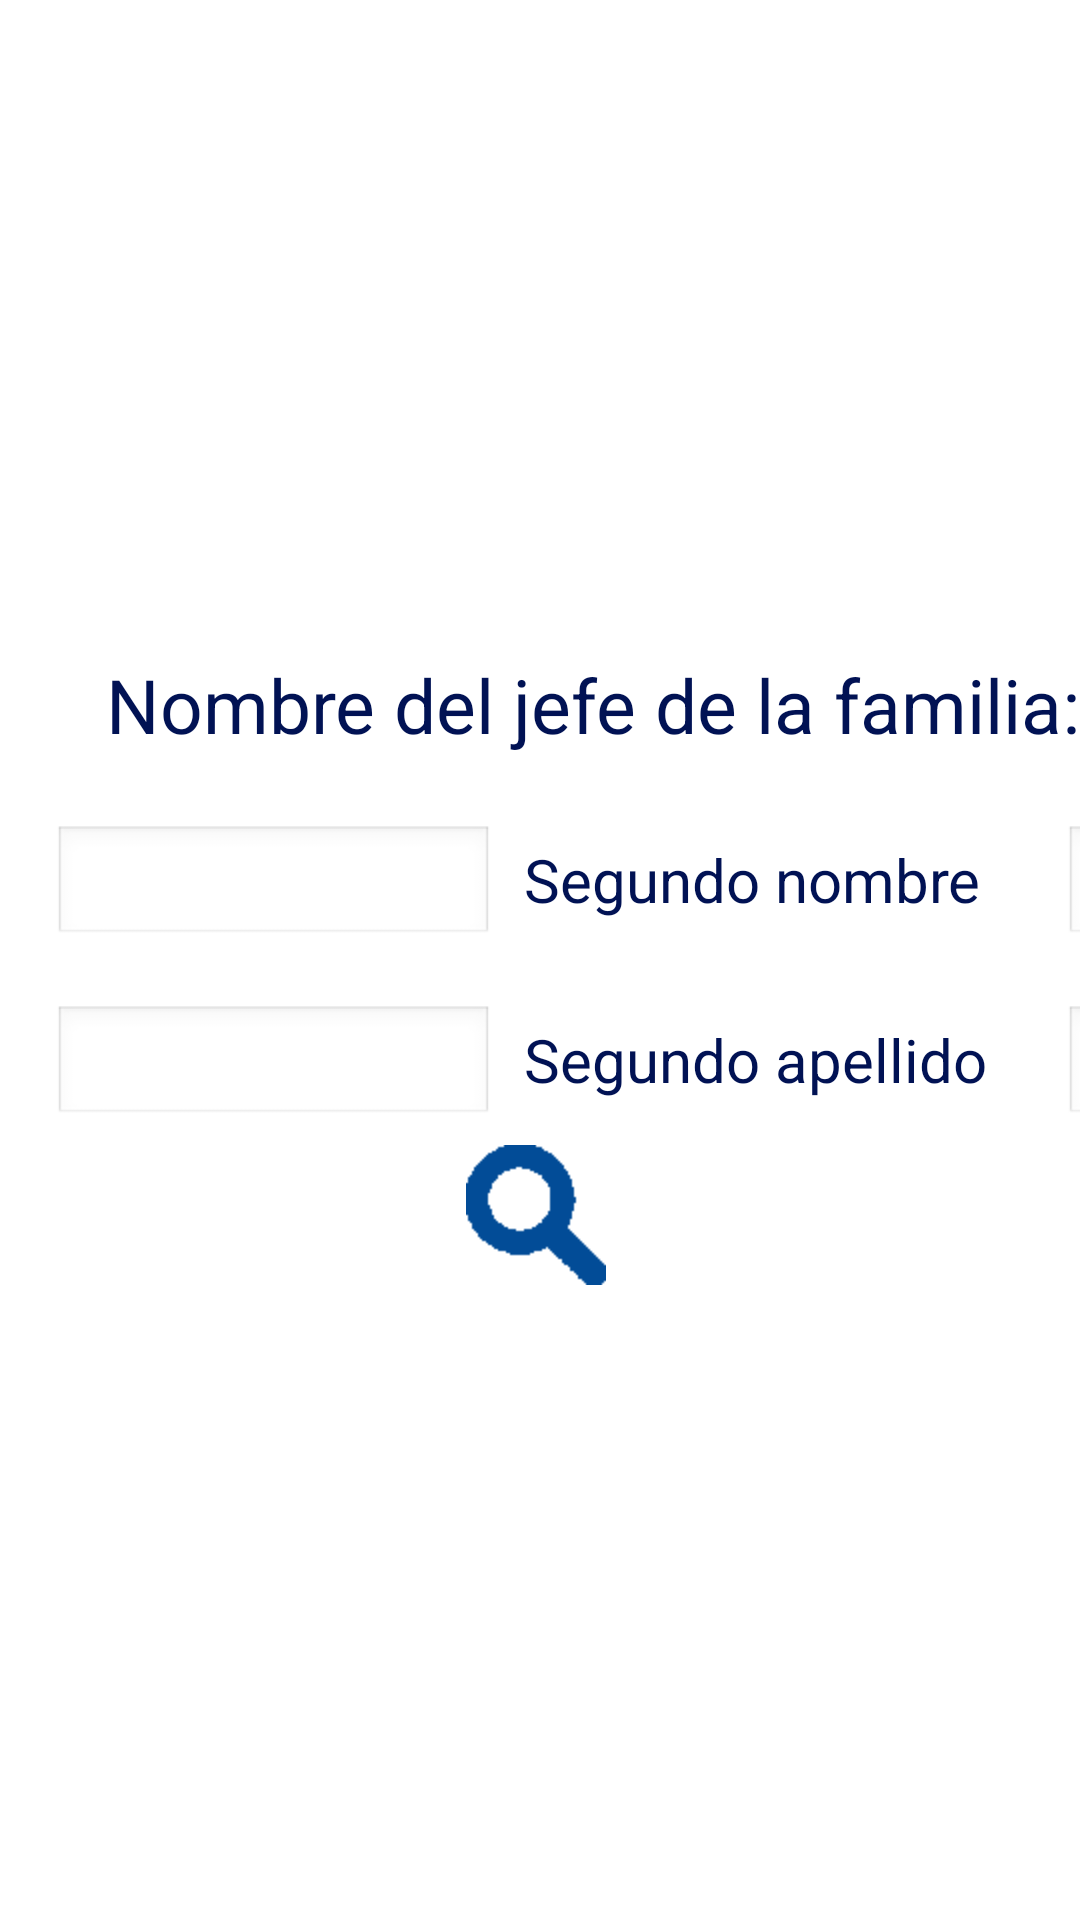

Icon click points for this 1080 × 1920 phone screenshot, format (x,y):
lupa: (536,1215)
